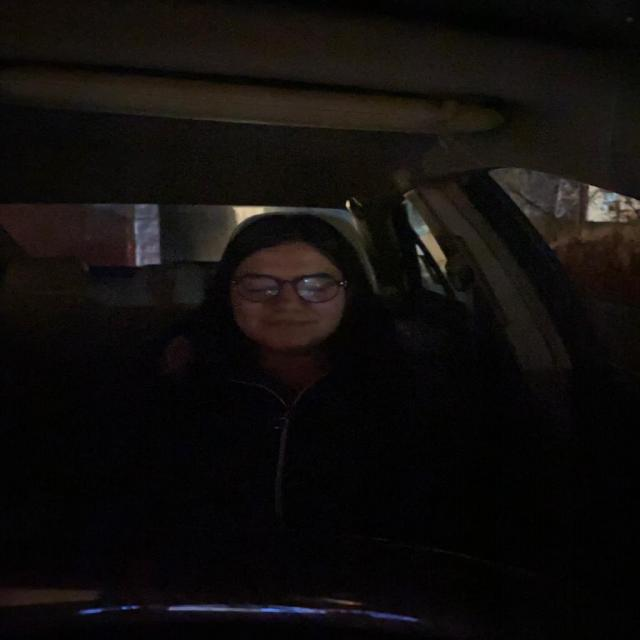drowsy: (212, 210, 368, 366)
